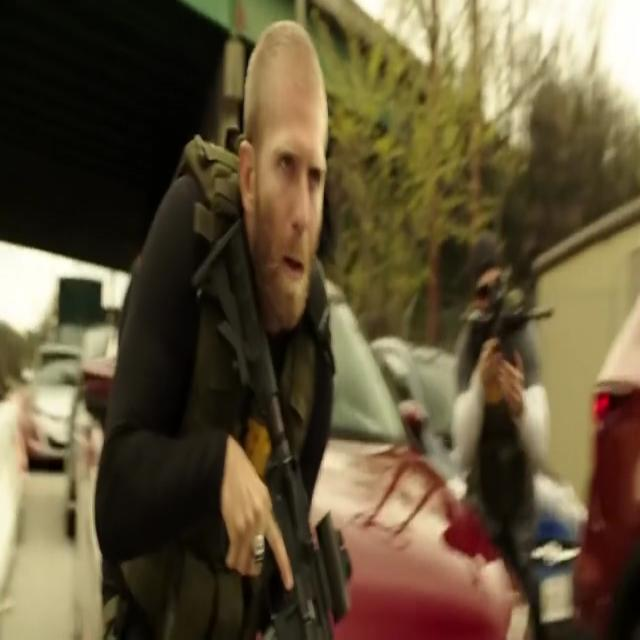Weapon: (212, 225, 338, 640)
